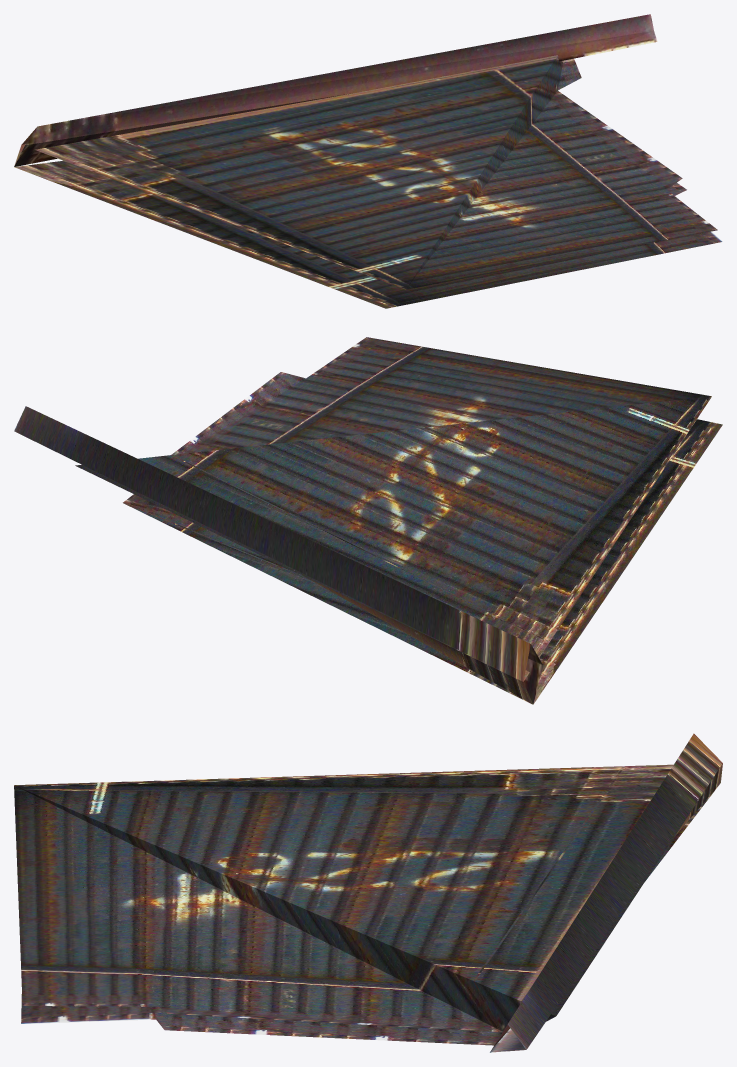
File: fence01.fbx
3 views of the same model, one above another, from view 1: azimuth 30°, elevation 25°; view 2: azimuth 150°, elevation 25°; view 3: azimuth 270°, elevation 25° (orthographic). The views are drawn at different scales.
Parts seen in each view (by area): view 1: border_fence1:Default; view 2: border_fence1:Default; view 3: border_fence1:Default.
Boxes of the visible parts, x1,y1,x2,y2 form: border_fence1:Default: (14, 14, 722, 308); border_fence1:Default: (14, 337, 722, 704); border_fence1:Default: (14, 733, 722, 1052).
Size of the model in its own units: 1.52 by 0.208 by 1.32.
